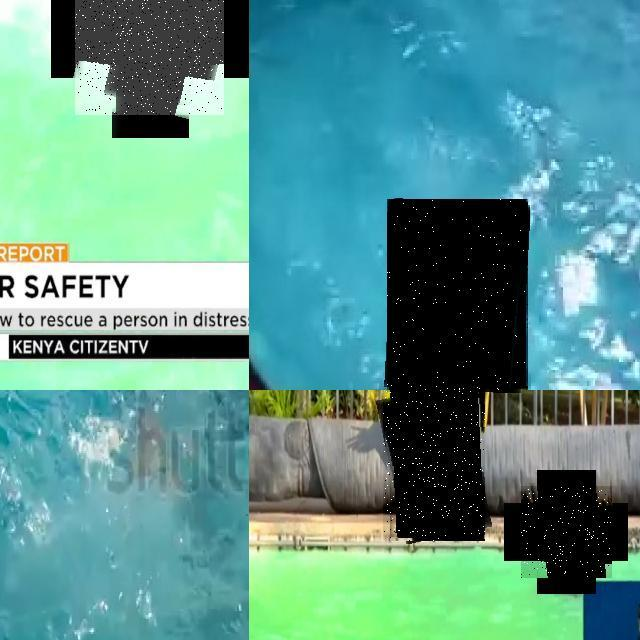3: (387, 200, 528, 392)
6: (75, 0, 224, 115), (521, 486, 612, 578)
drowning: (383, 386, 485, 541)
